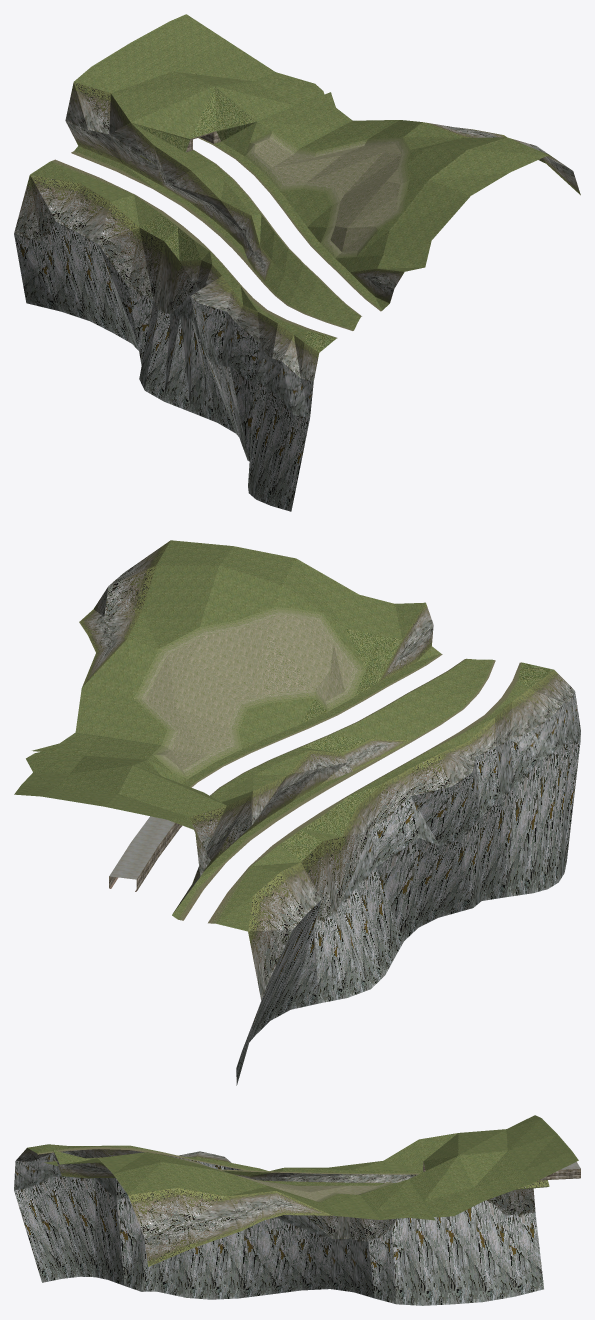
Rendered from lodcuntw42.obj.
3 renders of one model, top to bottom at view 1: azimuth 30°, elevation 25°; view 2: azimuth 150°, elevation 25°; view 3: azimuth 270°, elevation 25°, orthographic. The views are drawn at different scales.
Visible parts, largest first — view 1: lodcuntw42; view 2: lodcuntw42; view 3: lodcuntw42.
Part boxes in pixels (x1,y1,x2,y2): lodcuntw42: [14, 14, 580, 511]; lodcuntw42: [14, 540, 580, 1085]; lodcuntw42: [14, 1115, 580, 1305].
Bounding box in the file's own units: 229 × 153 × 346.
9 materials, 9 textured.
